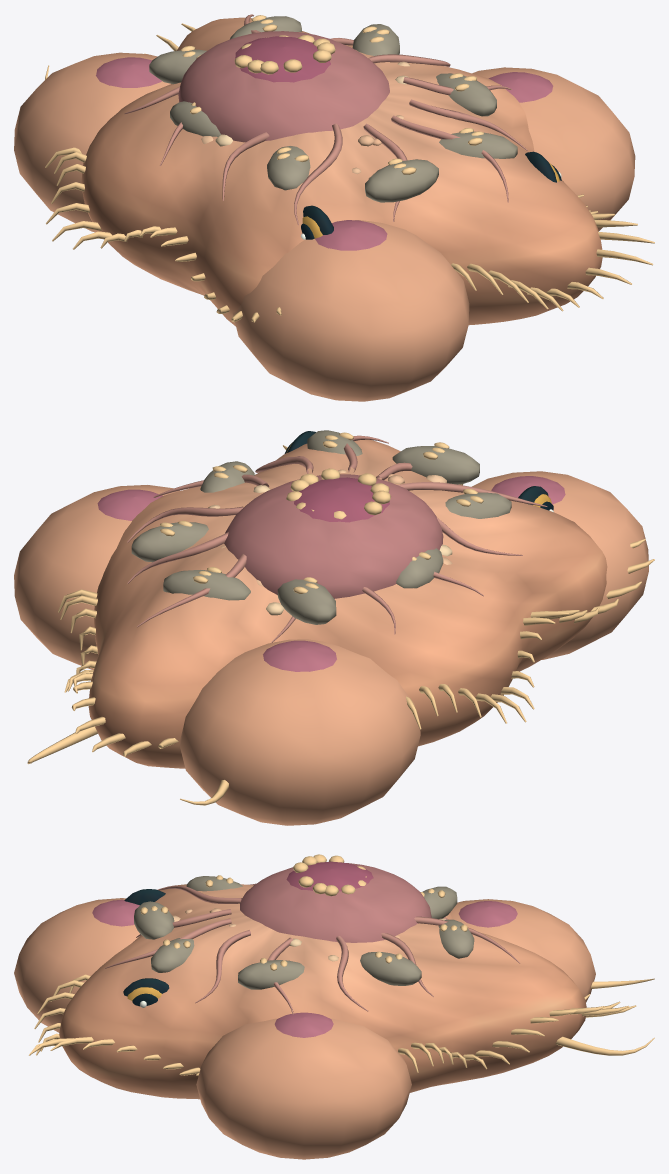
The model's file is colony.glb.
3 renders of one model, top to bottom at view 1: azimuth 30°, elevation 25°; view 2: azimuth 150°, elevation 25°; view 3: azimuth 270°, elevation 25°, orthographic. The views are drawn at different scales.
Parts seen in each view (by area): view 1: body, membrane, cilia; view 2: body, membrane, cilia, tail; view 3: body, membrane, cilia, tail.
Boxes of the visible parts, bbox=[...] form: body: bbox=[14, 15, 635, 401]; membrane: bbox=[81, 14, 602, 326]; cilia: bbox=[45, 23, 654, 322]; body: bbox=[14, 430, 648, 825]; membrane: bbox=[88, 435, 607, 768]; cilia: bbox=[58, 445, 654, 756]; tail: bbox=[27, 726, 229, 805]; body: bbox=[14, 854, 595, 1159]; membrane: bbox=[59, 883, 586, 1099]; cilia: bbox=[29, 974, 636, 1075]; tail: bbox=[555, 978, 654, 1055].
Size of the model in its own units: 2.24 by 0.9774 by 2.85.
